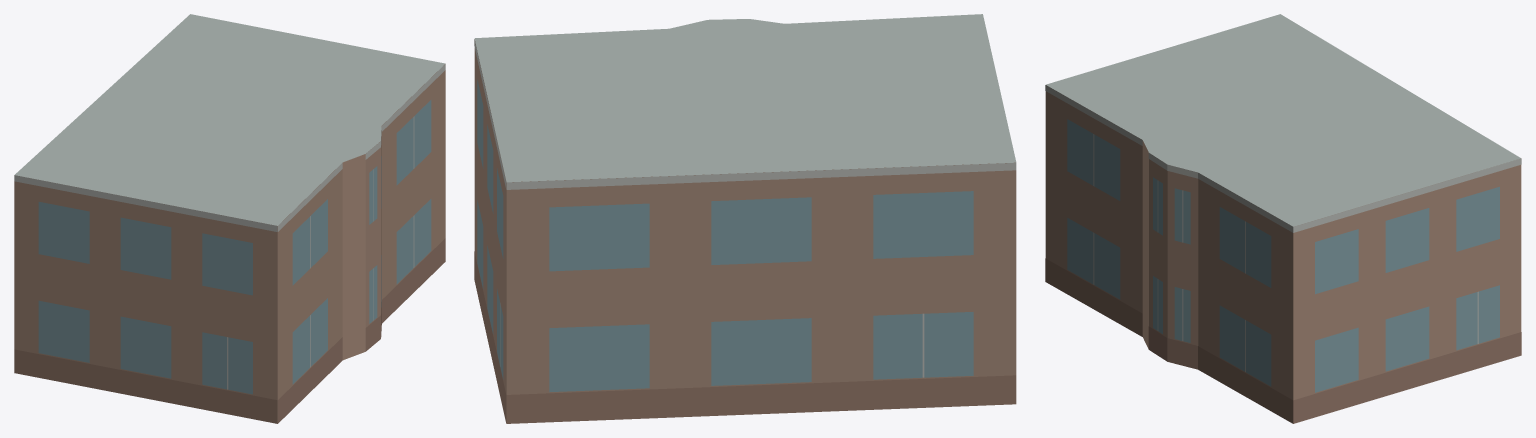
The model's file is survey-upis-33014947.glb.
3 renders of one model, left to right at view 1: azimuth 30°, elevation 25°; view 2: azimuth 150°, elevation 25°; view 3: azimuth 270°, elevation 25°, orthographic. The views are drawn at different scales.
Parts seen in each view (by area): view 1: survey-upis-33014947.tmp; view 2: survey-upis-33014947.tmp; view 3: survey-upis-33014947.tmp.
Part boxes in pixels (bbox=[...]): survey-upis-33014947.tmp: bbox=[14, 14, 445, 423]; survey-upis-33014947.tmp: bbox=[474, 14, 1016, 423]; survey-upis-33014947.tmp: bbox=[1045, 14, 1521, 423].
Size of the model in its own units: 17.83 by 7.7 by 16.86.
